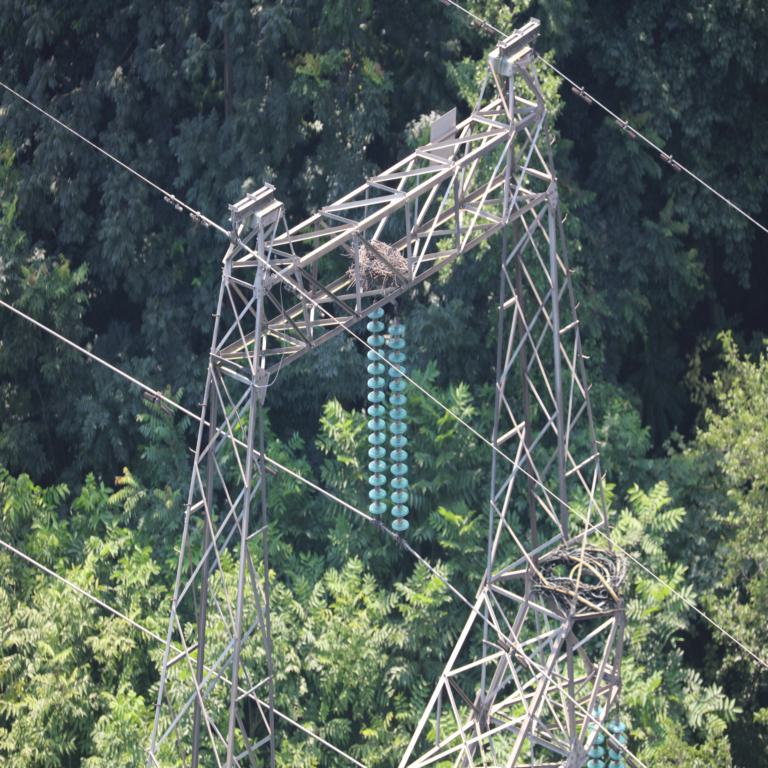nest: (527, 546, 625, 616), (352, 242, 423, 306)
